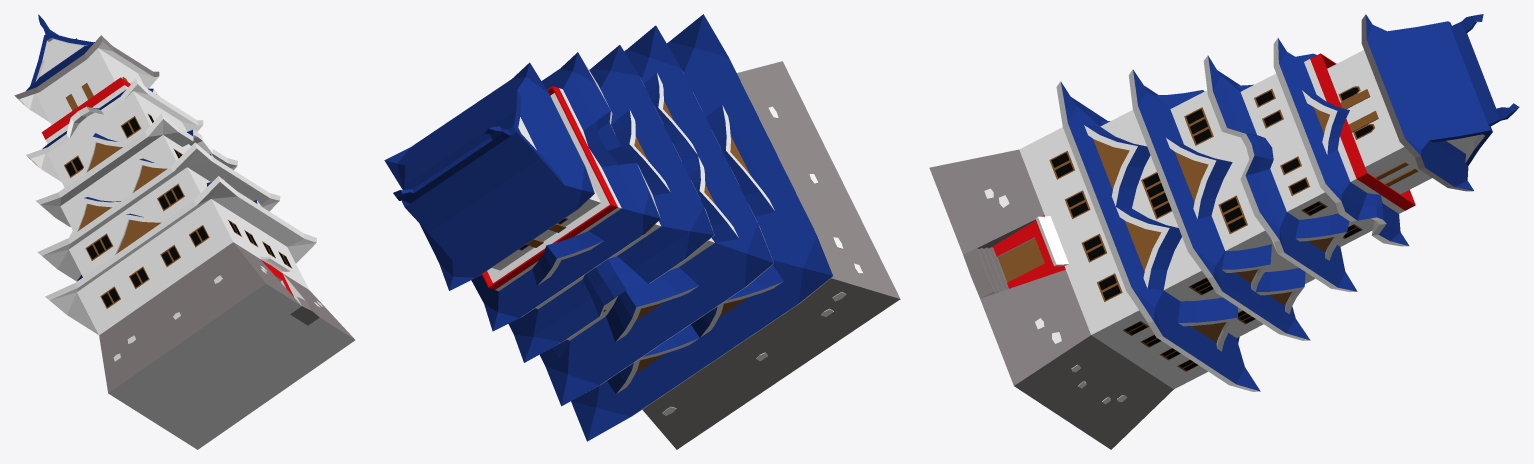
Rendered from asiancommandpost.fbx.
3 views of the same model, side by side, from view 1: azimuth 30°, elevation 25°; view 2: azimuth 150°, elevation 25°; view 3: azimuth 270°, elevation 25° (orthographic). The views are drawn at different scales.
Parts seen in each view (by area): view 1: castle-japan; view 2: castle-japan; view 3: castle-japan.
Boxes of the visible parts, left/top/right/bottom form: castle-japan: left=14, top=14, right=355, bottom=449; castle-japan: left=384, top=14, right=900, bottom=449; castle-japan: left=929, top=14, right=1519, bottom=449.
Bounding box in the file's own units: 212 × 259 × 317.
